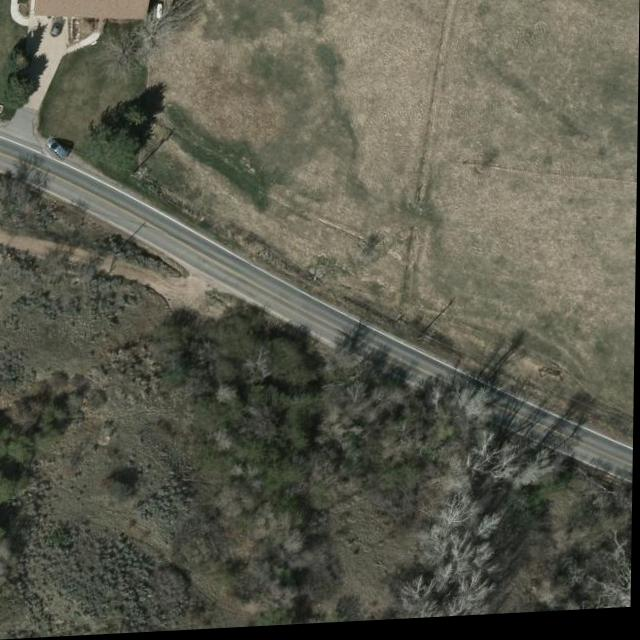vehicle: (42, 137, 70, 162), (50, 17, 65, 41)
